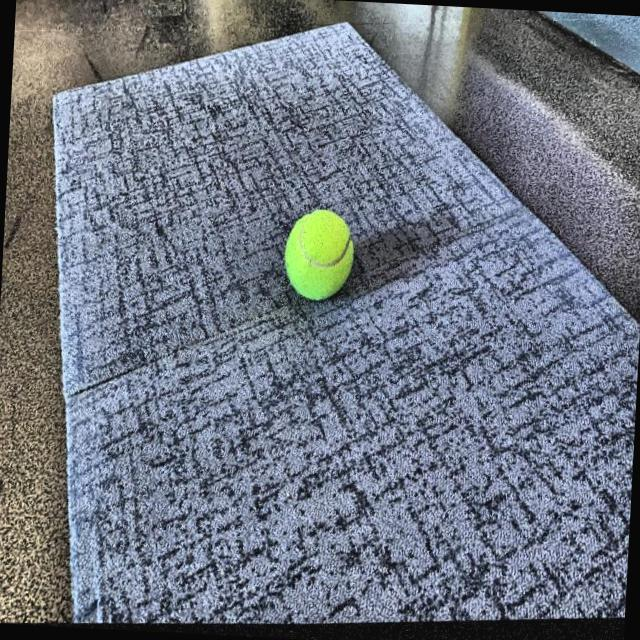Tennis Ball: (278, 208, 364, 314)
